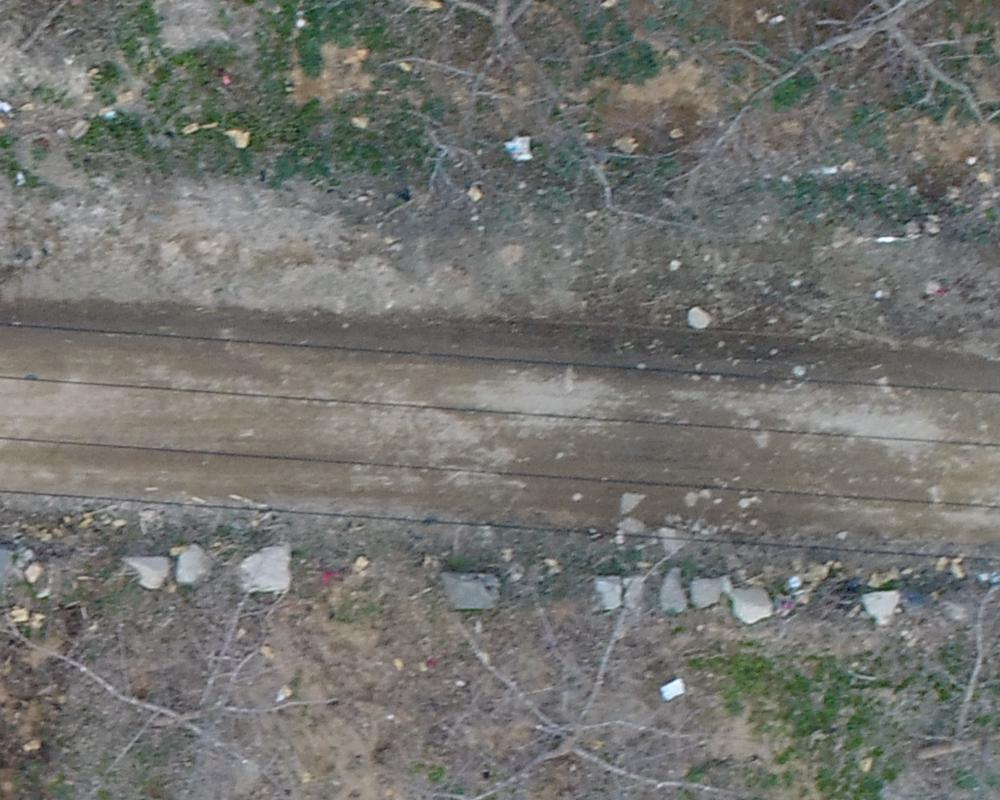apple: (275, 10, 682, 262), (391, 534, 775, 790), (10, 577, 296, 790), (846, 580, 990, 790)
